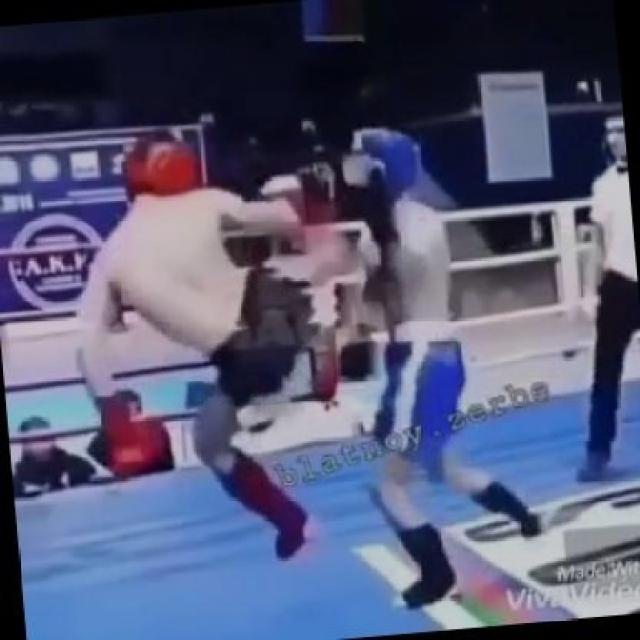fight: (89, 100, 554, 608)
non-fight: (546, 102, 639, 489)
